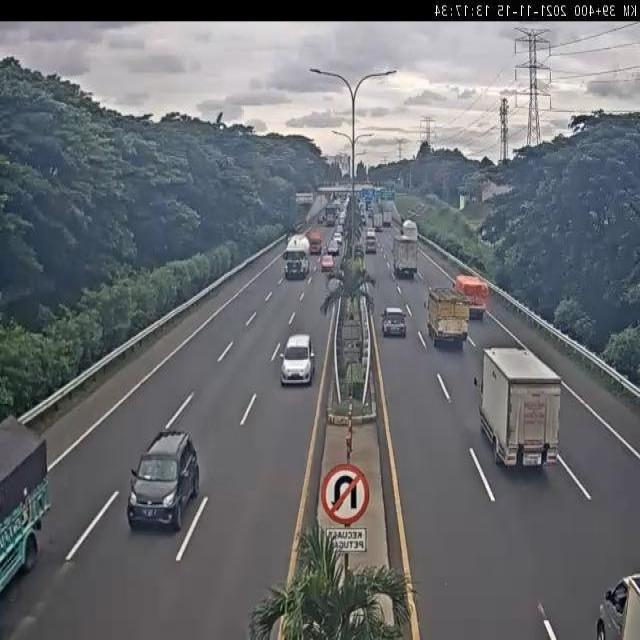Car: (129, 427, 201, 524), (597, 573, 640, 639), (280, 334, 316, 386), (380, 306, 406, 338), (320, 254, 335, 274), (328, 236, 340, 256)
Truck: (469, 342, 565, 475), (0, 419, 48, 604), (426, 285, 469, 348), (454, 275, 488, 321), (392, 227, 419, 278), (282, 235, 310, 280)
